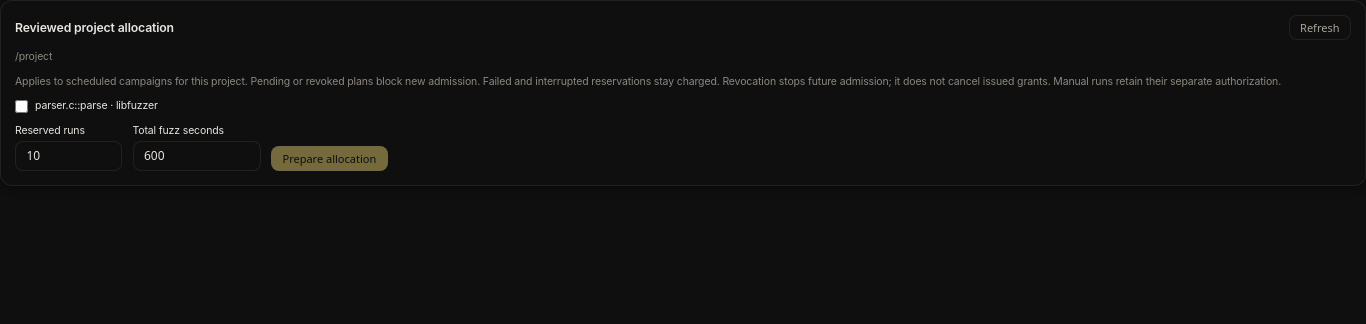
Test case: requires review of the exact persisted proposal and shows reserved consumption
The image size is (1366, 324).
Step 1. Click the checkbox labelled "parser.c::parse · libfuzzer" → [22, 106], box 15,100 -> 28,112
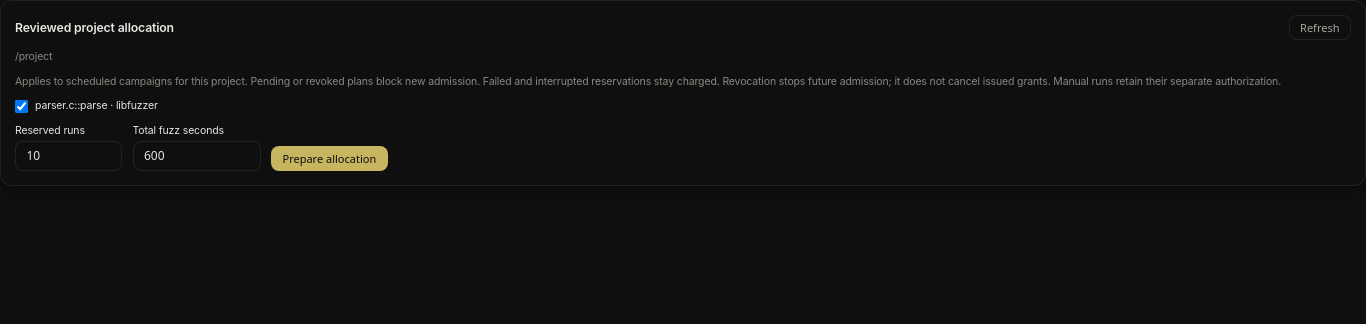
Step 2. Click the button "Prepare allocation" → [329, 158], box 271,146 -> 388,170
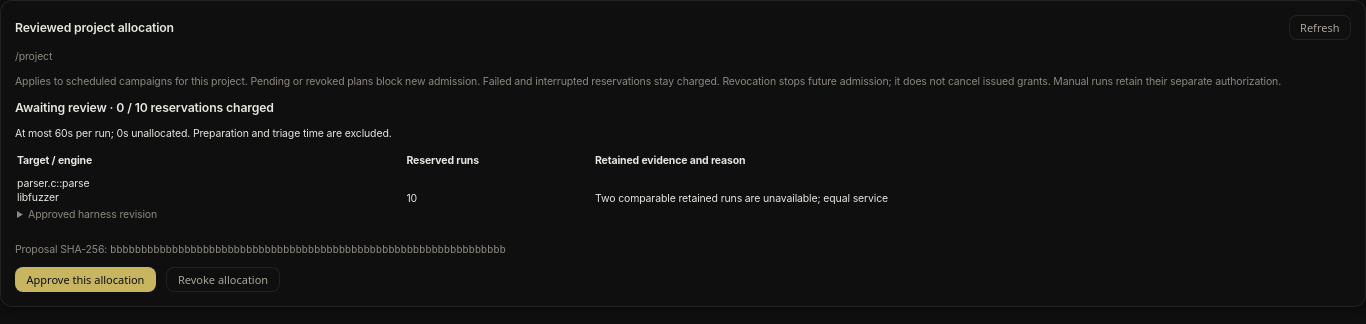
Check: the text "equal service" is shown, box 595,192 -> 888,205
Check: the button "Approve this allocation" is shown
Step 3. Click the button "Approve this allocation" → [85, 279], box 15,267 -> 156,292
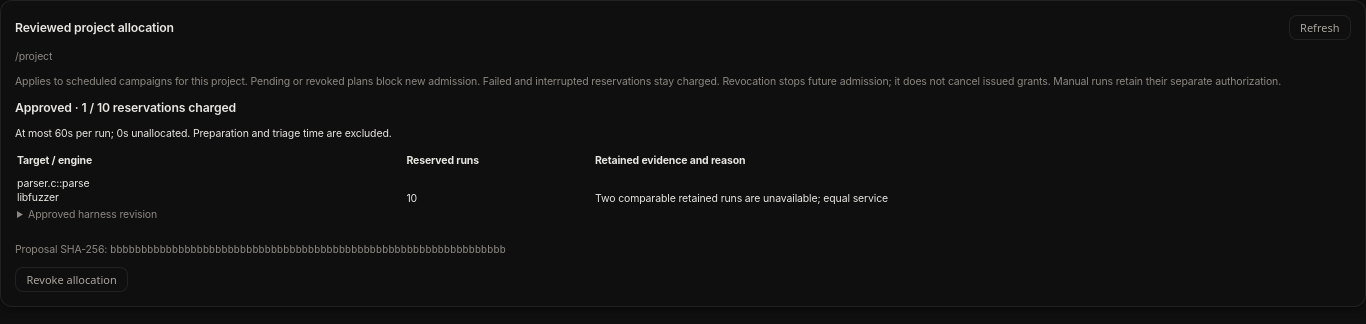
Check: the text "Approved" is shown, box 15,100 -> 72,115
Check: the text "1 / 10" is shown, box 15,100 -> 236,115
